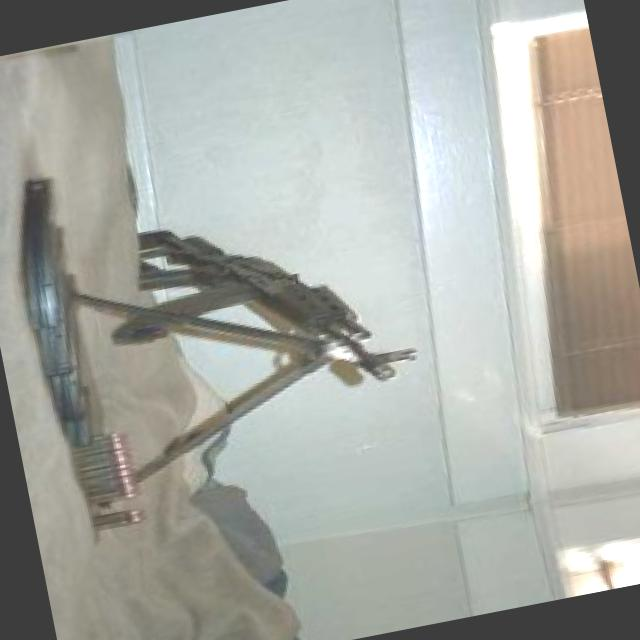long weapon: (134, 200, 436, 476)
